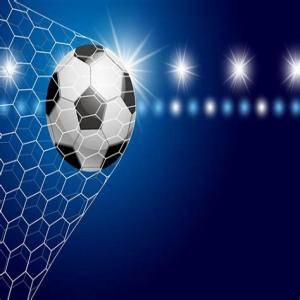Football: (43, 42, 138, 172)
